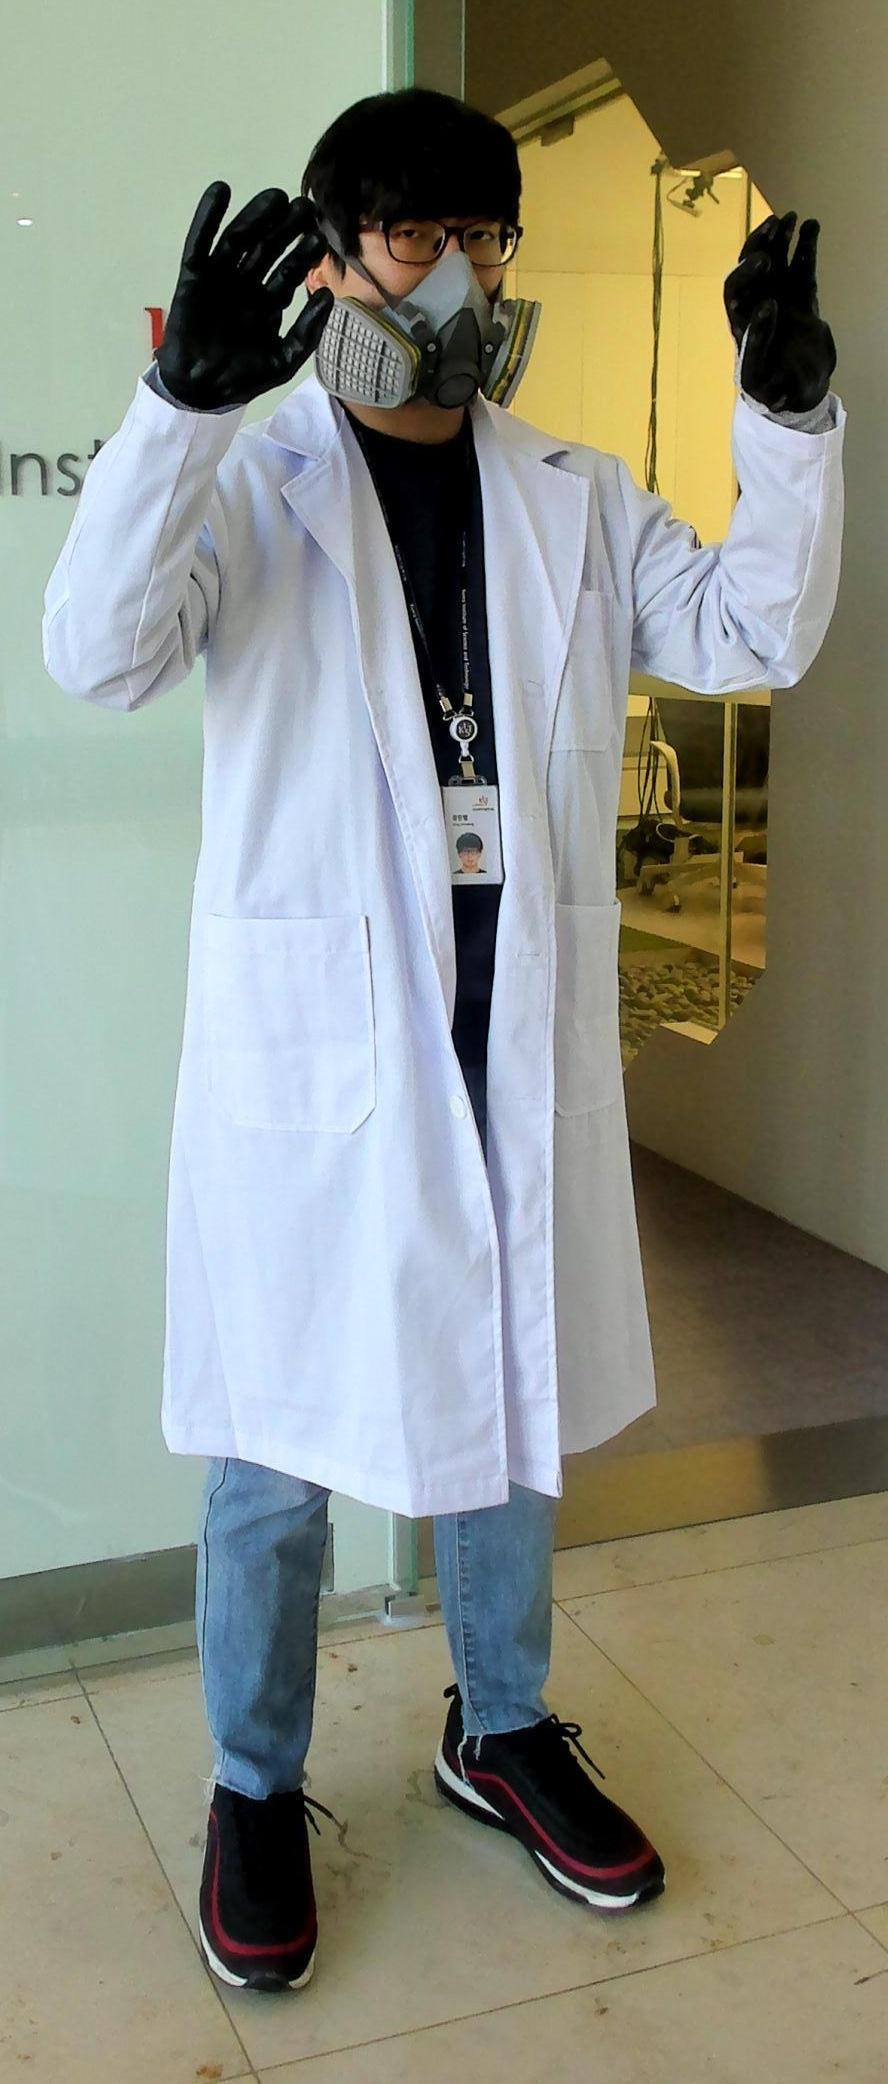lab_coat: (122, 447, 686, 1477)
